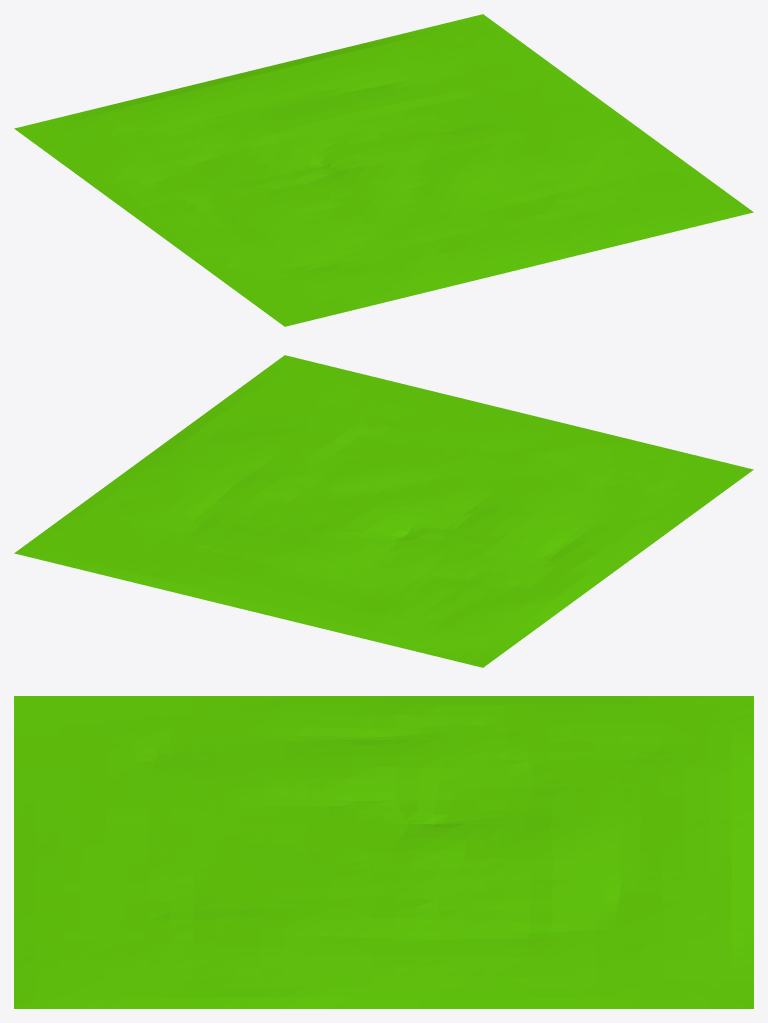
Rendered from Road_Terrain.fbx.
The picture shows the model from 3 angles, top to bottom: view 1: azimuth 30°, elevation 25°; view 2: azimuth 150°, elevation 25°; view 3: azimuth 270°, elevation 25°; orthographic projection. The views are drawn at different scales.
Parts seen in each view (by area): view 1: Road Terrain_LOD0; view 2: Road Terrain_LOD0; view 3: Road Terrain_LOD0.
Boxes of the visible parts, left/top/right/bottom form: Road Terrain_LOD0: left=14, top=14, right=753, bottom=326; Road Terrain_LOD0: left=14, top=355, right=753, bottom=667; Road Terrain_LOD0: left=14, top=696, right=753, bottom=1008.
Size of what is drawn, in the model's own units: 1000 by 11.21 by 1000.
